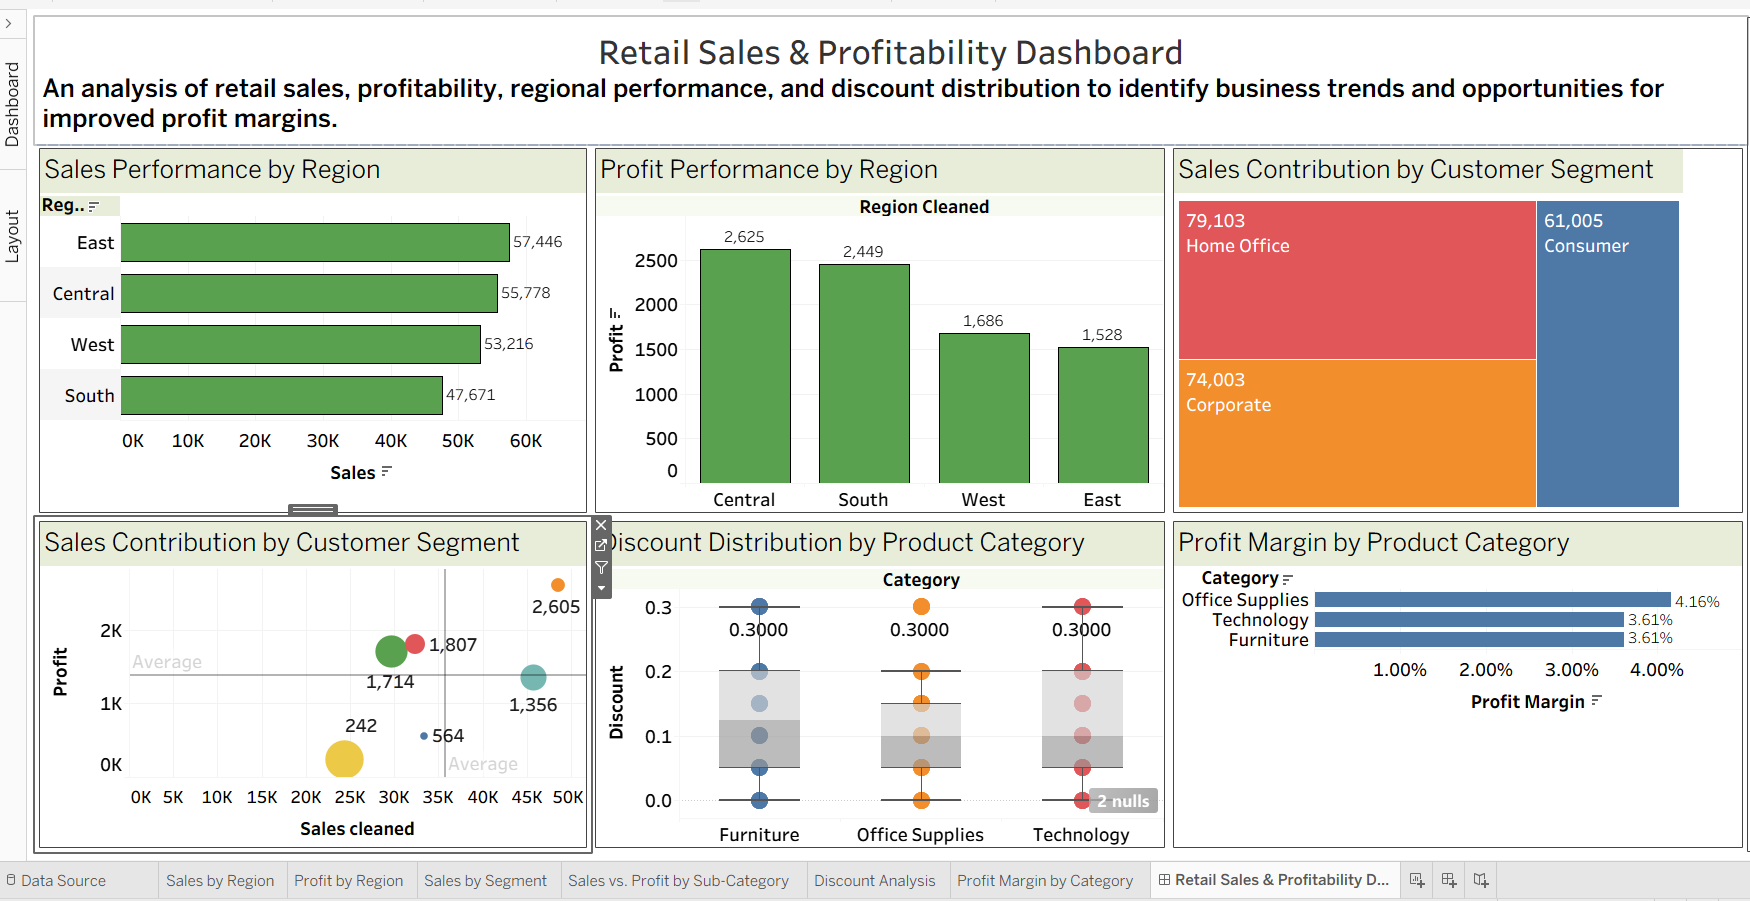

The dashboard page shown, as its layout file describes it:
{"tool":"tableau","page":{"name":"Retail Sales & Profitability Dashboard","canvas":[1000,1000],"units":"permille","ordinal":0},"visuals":[{"type":"title","box":[4.8,9.4,893.8,149.2]},{"type":"legend","title":"Sales by Segment","param":"[federated.0191zdo11sp7y01aoixfz0tr3h66].[none:Segment:nk]","box":[899.2,10.6,95.4,128.1]},{"type":"legend","title":"Sales vs. Profit by Sub-Category","param":"[federated.0191zdo11sp7y01aoixfz0tr3h66].[none:Sub-Category:nk]","box":[899.2,138.7,95.4,216.2]},{"type":"worksheet","title":"Sales by Region","mark":"Automatic","rows":["Region_Cleaned"],"cols":["Sales_cleaned"],"box":[4.8,158.6,290.2,438.4]},{"type":"worksheet","title":"Profit by Region","mark":"Automatic","rows":["Profit"],"cols":["Region_Cleaned"],"box":[295.1,158.6,301.8,438.4]},{"type":"worksheet","title":"Sales by Segment","mark":"Automatic","box":[596.8,158.6,301.8,438.4]},{"type":"legend","title":"Sales vs. Profit by Sub-Category","param":"[federated.0191zdo11sp7y01aoixfz0tr3h66].[none:Sub-Category:nk]","box":[899.2,354.9,95.4,216.2]},{"type":"legend","title":"Discount Analysis","param":"[federated.0191zdo11sp7y01aoixfz0tr3h66].[none:Category:nk]","box":[899.2,571.1,95.4,128.1]},{"type":"worksheet","title":"Sales vs. Profit by Sub-Category","mark":"Circle","rows":["Profit"],"cols":["Sales_cleaned"],"box":[4.8,597.1,290.2,393.6]},{"type":"worksheet","title":"Discount Analysis","mark":"Circle","rows":["Discount"],"cols":["Category"],"box":[295.1,597.1,301.8,393.6]},{"type":"worksheet","title":"Profit Margin by Category","mark":"Automatic","rows":["Category"],"cols":["Calculation_0342557151113217"],"box":[596.8,597.1,301.8,393.6]}]}

Visuals, with their boxes on the dashboard's canvas, which has no fixed pixel size, in thousandths of its width and height (x1, y1, x2, y2). These are canvas units, not pixel positions in the 1750x901 screenshot, which may show the page scaled, cropped or inside an application window:
title: (x1=5, y1=9, x2=899, y2=159)
"Sales by Segment" legend: (x1=899, y1=11, x2=995, y2=139)
"Sales vs. Profit by Sub-Category" legend: (x1=899, y1=139, x2=995, y2=355)
"Sales by Region" worksheet: (x1=5, y1=159, x2=295, y2=597)
"Profit by Region" worksheet: (x1=295, y1=159, x2=597, y2=597)
"Sales by Segment" worksheet: (x1=597, y1=159, x2=899, y2=597)
"Sales vs. Profit by Sub-Category" legend: (x1=899, y1=355, x2=995, y2=571)
"Discount Analysis" legend: (x1=899, y1=571, x2=995, y2=699)
"Sales vs. Profit by Sub-Category" worksheet (Circle marks): (x1=5, y1=597, x2=295, y2=991)
"Discount Analysis" worksheet (Circle marks): (x1=295, y1=597, x2=597, y2=991)
"Profit Margin by Category" worksheet: (x1=597, y1=597, x2=899, y2=991)
